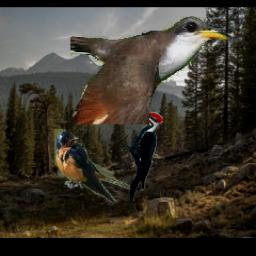Cuckoo: (70, 16, 230, 124)
Swallow: (55, 130, 131, 203)
Woodpecker: (121, 111, 164, 202)
